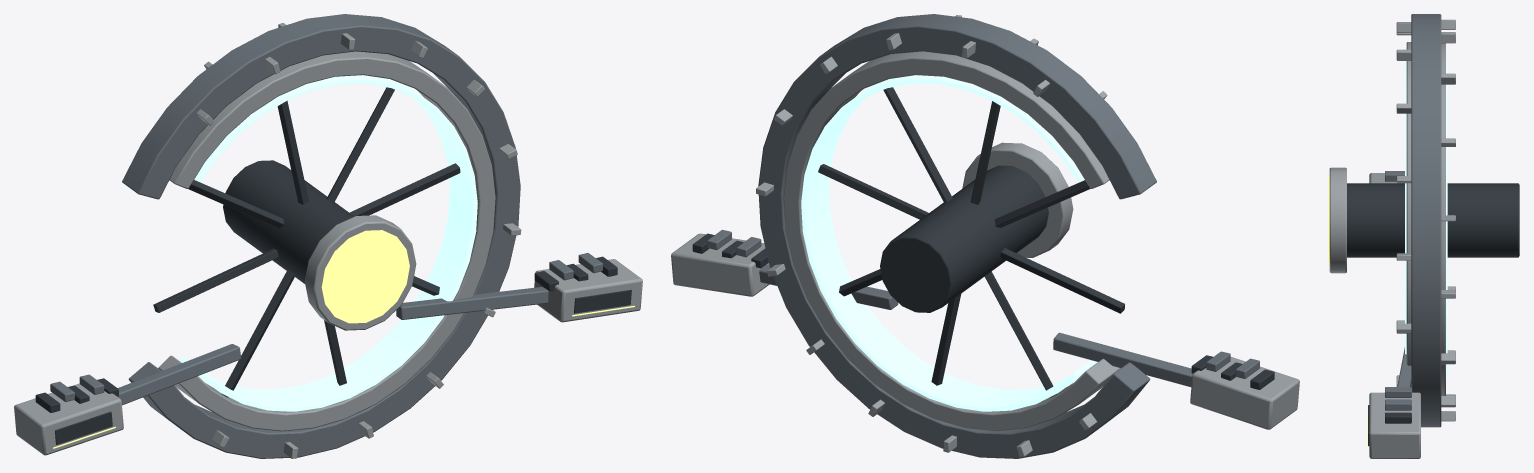
Rendered from QW_HarbourSector_LOD1.fbx.
3 views of the same model, side by side, from view 1: azimuth 30°, elevation 25°; view 2: azimuth 150°, elevation 25°; view 3: azimuth 270°, elevation 25° (orthographic). The views are drawn at different scales.
Parts seen in each view (by area): view 1: QW_HarbourSector_LOD1; view 2: QW_HarbourSector_LOD1; view 3: QW_HarbourSector_LOD1.
Part boxes in pixels (x1,y1,x2,y2): QW_HarbourSector_LOD1: [14, 14, 642, 458]; QW_HarbourSector_LOD1: [671, 14, 1299, 458]; QW_HarbourSector_LOD1: [1328, 14, 1519, 458].
Size of the model in its own units: 59.59 by 39.92 by 18.45.
